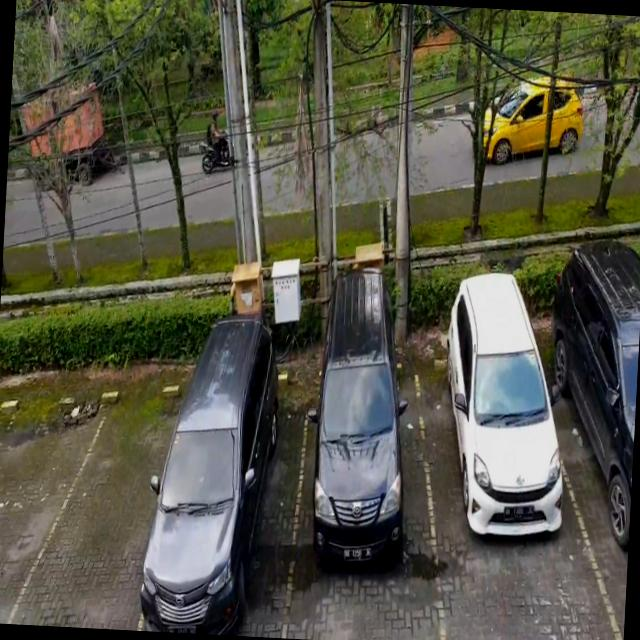car: (426, 318, 588, 620), (144, 375, 310, 639), (295, 342, 445, 632), (557, 294, 638, 640)
free: (42, 379, 164, 626), (0, 390, 63, 621)
